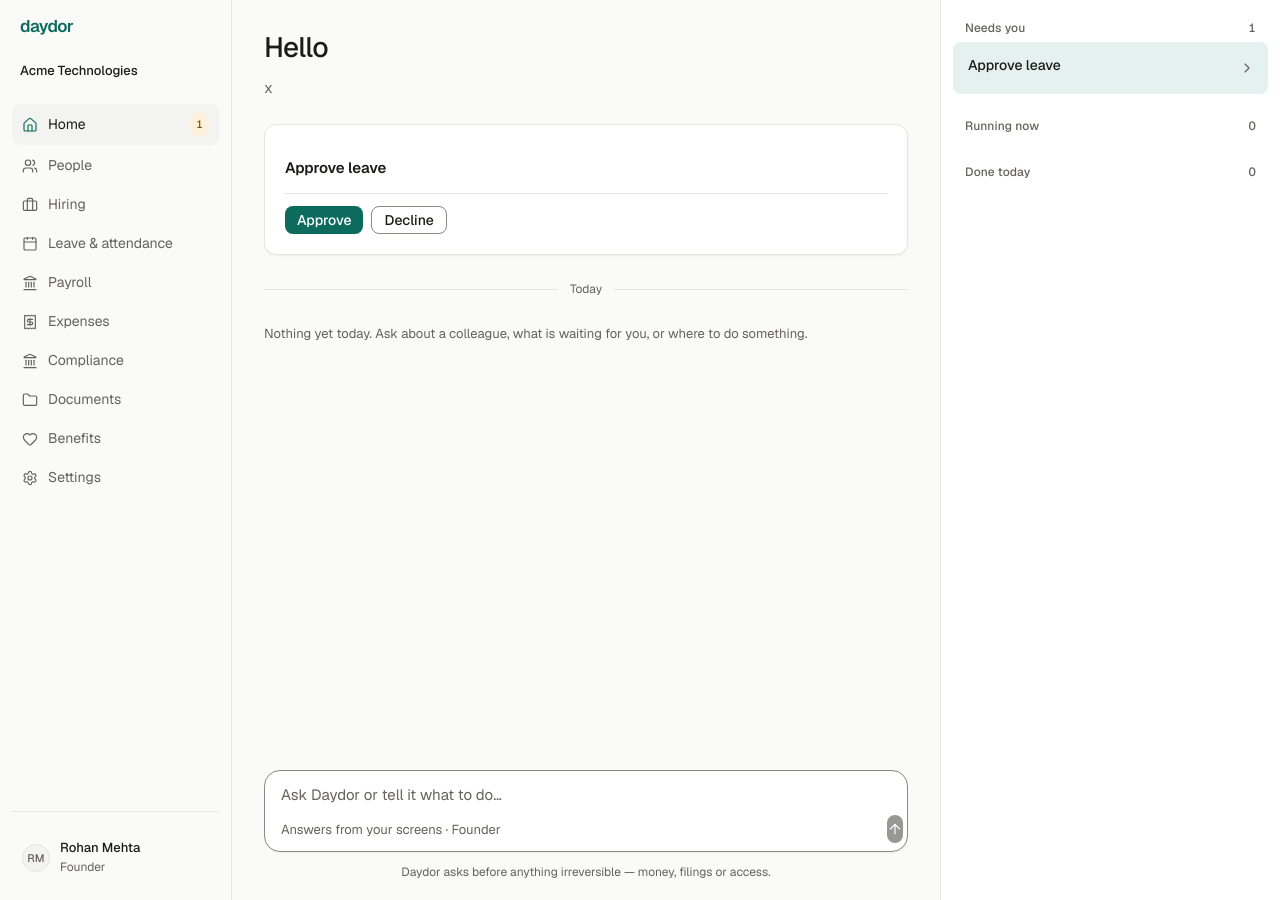
Test: Home › reloads after a conflict, so the person sees what changed
Click the button "Approve": (324, 220) x1=285 y1=206 x2=364 y2=234
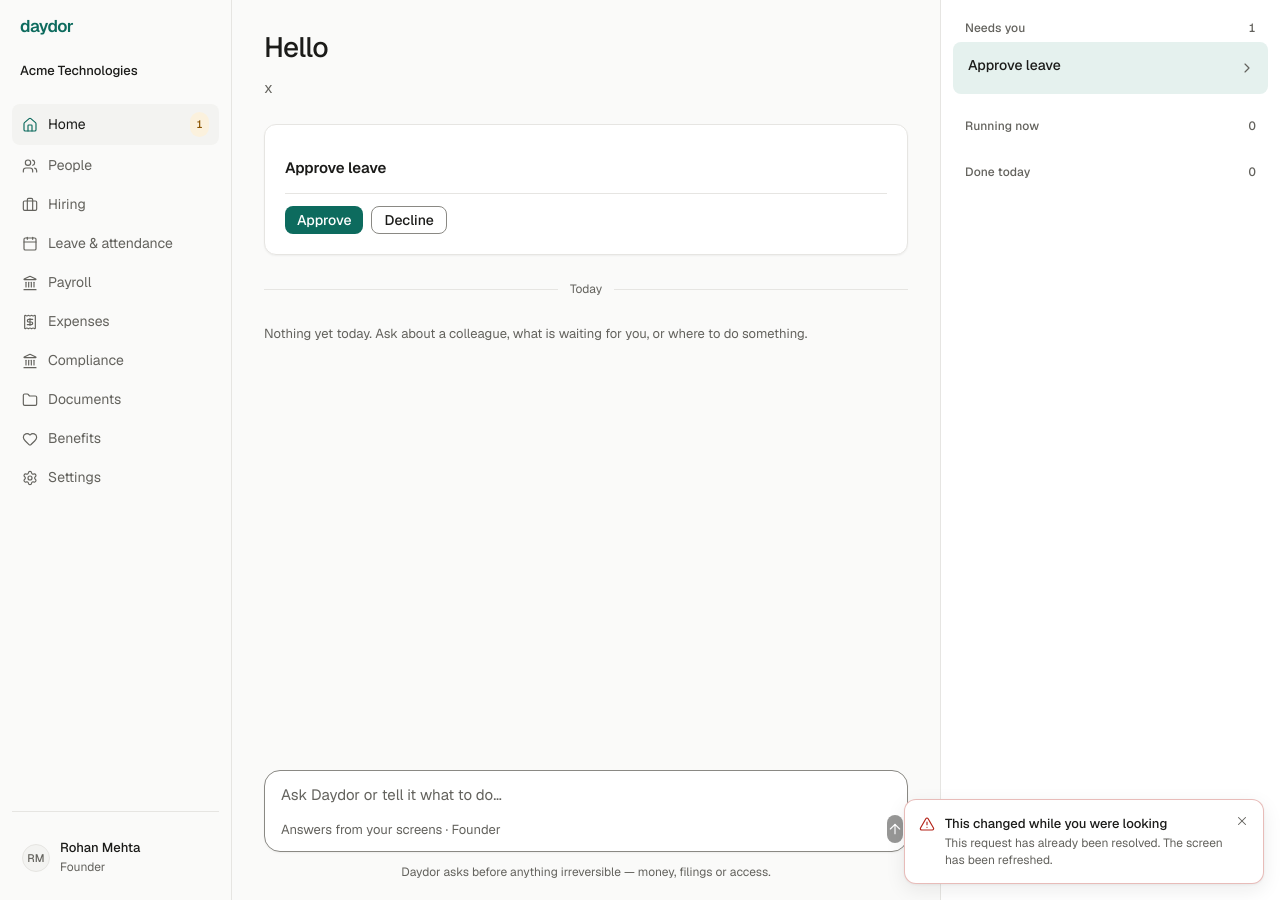
Check: the text "already been resolved" is shown, box x1=945 y1=835 x2=1223 y2=868
